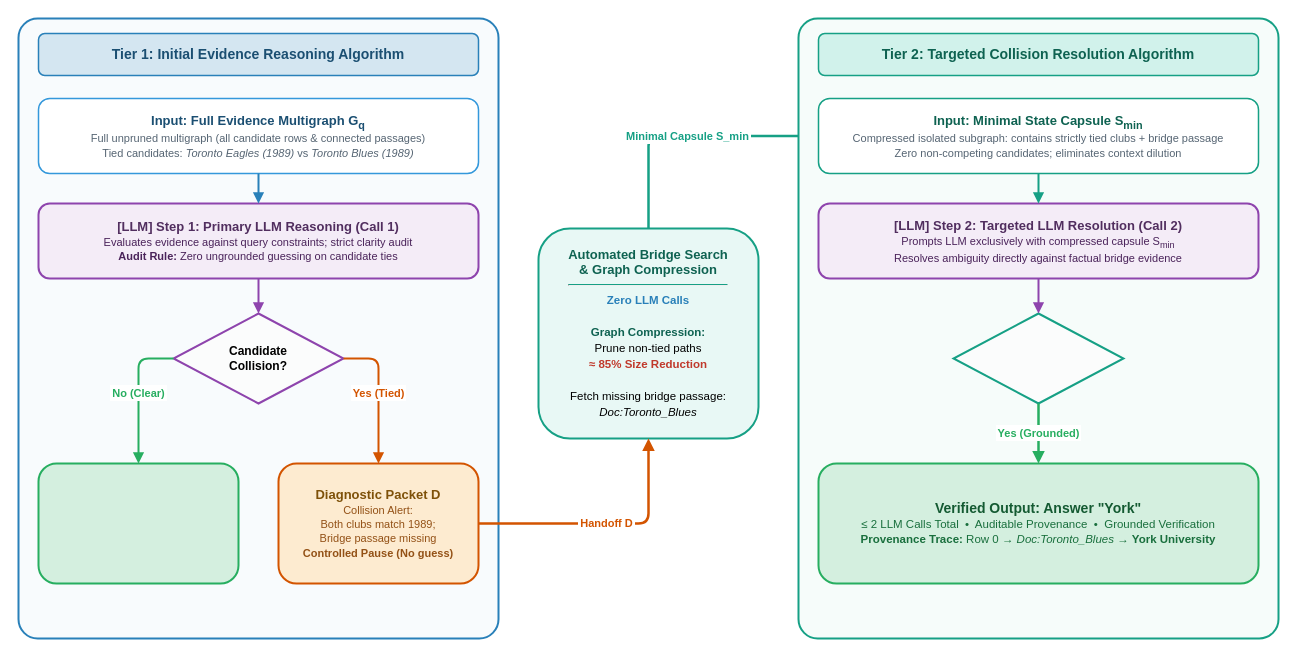
This 1296x656 diagram has some shape labels left out. The box of each missing label's shape, as (x1, y1, x2, y2) in pixels:
Fast Exit Single LLM Call ≈ 80% of Queries: (37, 462, 239, 584)
Grounded by Bridge Passage?: (952, 312, 1124, 404)
